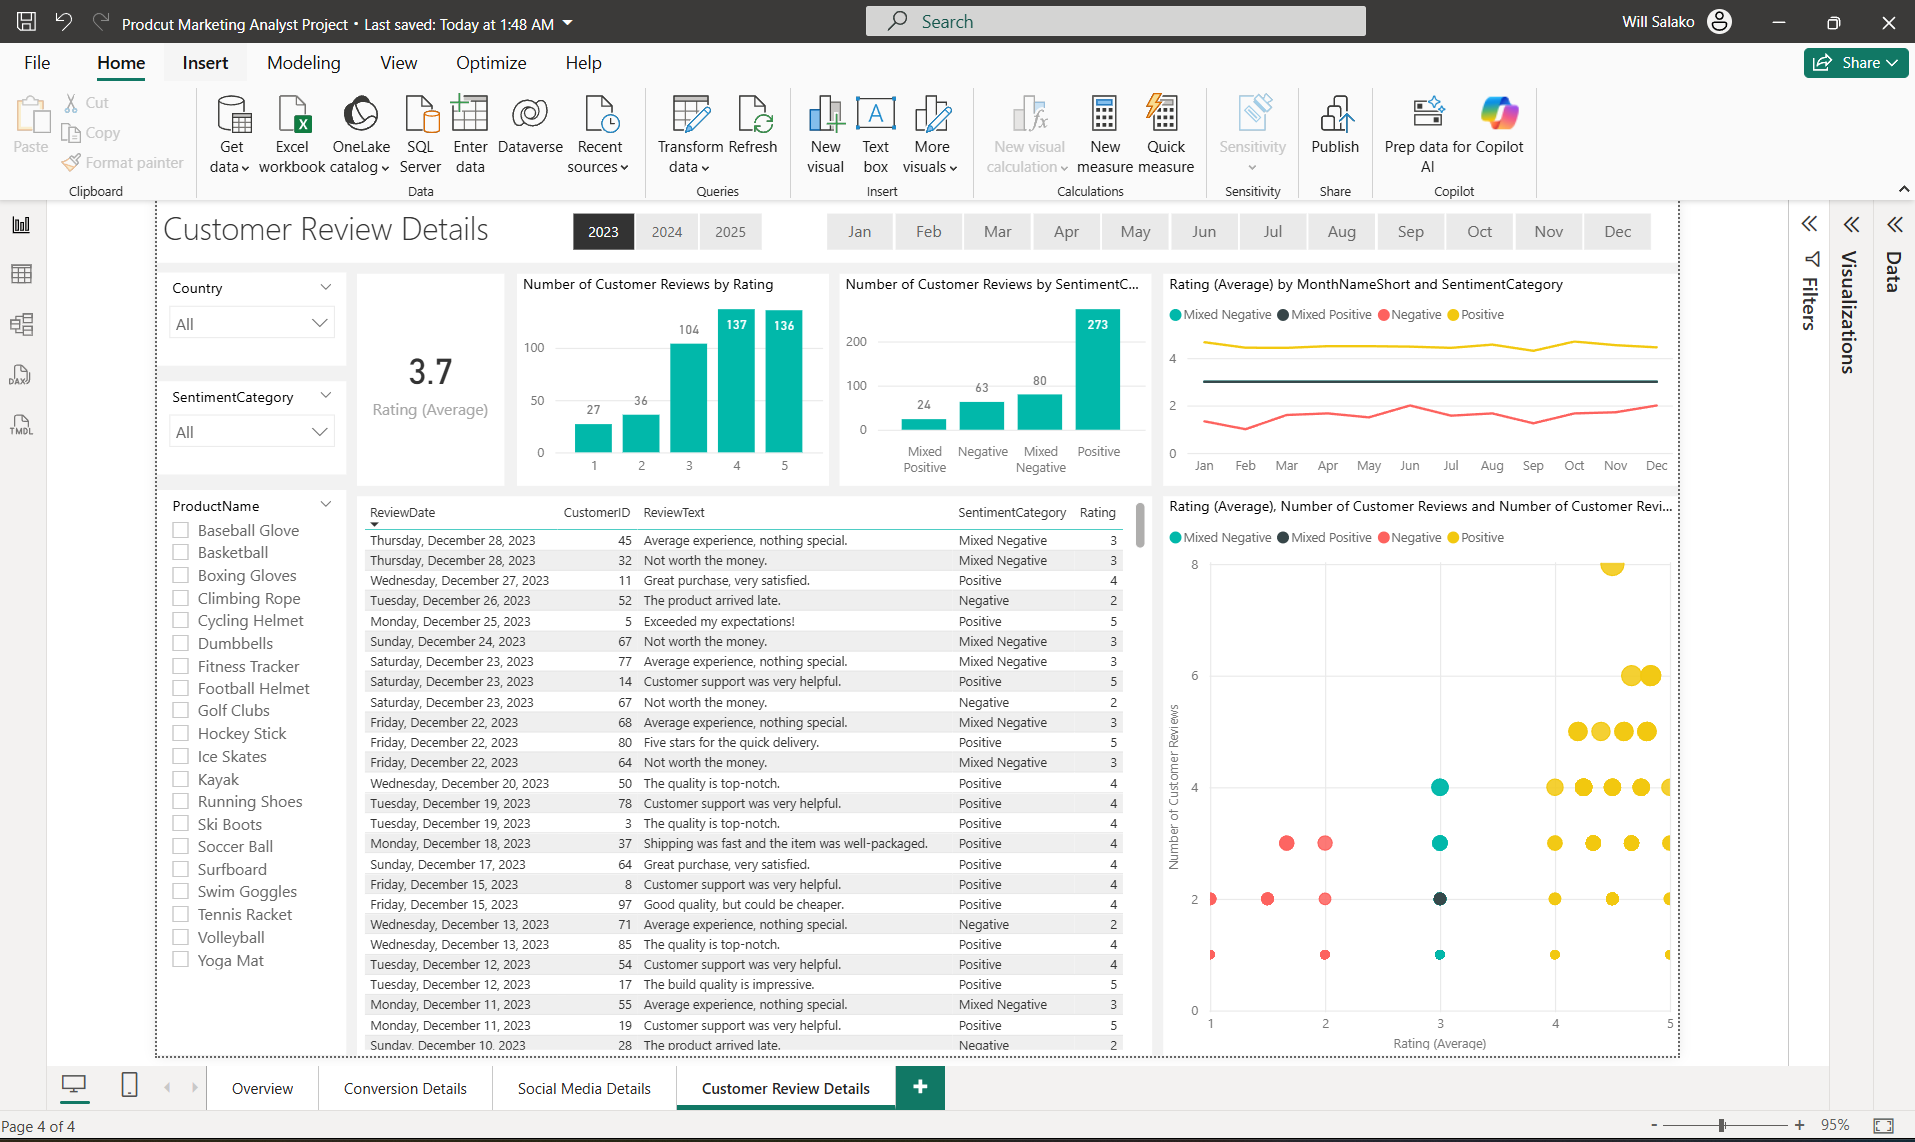

What the dashboard file says about the page in this screenshot:
{"tool":"powerbi","page":{"name":"Customer Review Details","canvas":[1280,720],"ordinal":3},"visuals":[{"type":"textbox","box":[0,0,1280,52.6],"z":0},{"type":"slicer","fields":{"Values":["dim_products.ProductName"]},"box":[0,244.2,159.3,475.3],"z":1000},{"type":"card","fields":{"Values":["_Calculations.Rating (Average)"]},"box":[168.5,61.9,123.8,178.5],"z":2000},{"type":"slicer","fields":{"Values":["Calendar.MonthNameShort"]},"box":[536.8,4.1,743.2,44.4],"z":3000},{"type":"lineChart","fields":{"Category":["Calendar.MonthNameShort"],"Y":["_Calculations.Rating (Average)"],"Series":["fact_customer_reviews_with_sentiment.SentimentCategory"]},"box":[846.2,62,434.1,178.4],"z":4000},{"type":"slicer","fields":{"Values":["Calendar.Year"]},"box":[324.1,4.1,208.5,44.4],"z":5000},{"type":"tableEx","fields":{"Values":["fact_customer_reviews_with_sentiment.ReviewDate","fact_customer_reviews_with_sentiment.CustomerID","fact_customer_reviews_with_sentiment.ReviewText","fact_customer_reviews_with_sentiment.SentimentCategory","fact_customer_reviews_with_sentiment.Rating"]},"box":[168.5,249.5,668.4,470.8],"z":6000},{"type":"columnChart","fields":{"Category":["fact_customer_reviews_with_sentiment.Rating"],"Y":["_Calculations.Number of Customer Reviews"]},"box":[302.4,62,262.4,178.4],"z":7000},{"type":"columnChart","fields":{"Category":["fact_customer_reviews_with_sentiment.SentimentCategory"],"Y":["_Calculations.Number of Customer Reviews"]},"box":[574.3,62,262.4,178.4],"z":8000},{"type":"slicer","fields":{"Values":["dim_customers.Country"]},"box":[0,61.4,159.3,78.3],"z":9000},{"type":"slicer","fields":{"Values":["fact_customer_reviews_with_sentiment.SentimentCategory"]},"box":[0,152.8,159.3,78.3],"z":10000},{"type":"scatterChart","fields":{"Category":["dim_customers.CustomerID"],"Series":["fact_customer_reviews_with_sentiment.SentimentCategory"],"X":["_Calculations.Rating (Average)"],"Y":["_Calculations.Number of Customer Reviews"],"Size":["_Calculations.Number of Customer Reviews"]},"box":[846,249.5,434.4,470.8],"z":11000}]}

Visuals, with their boxes on the page's 1280x720 design canvas (x1, y1, x2, y2). These are canvas units, not pixel positions in the 1915x1142 screenshot, which may show the page scaled, cropped or inside an application window:
textbox: box=[0, 0, 1280, 53]
slicer - dim_products.ProductName: box=[0, 244, 159, 720]
card - _Calculations.Rating (Average): box=[168, 62, 292, 240]
slicer - Calendar.MonthNameShort: box=[537, 4, 1280, 48]
lineChart - Calendar.MonthNameShort x _Calculations.Rating (Average): box=[846, 62, 1280, 240]
slicer - Calendar.Year: box=[324, 4, 533, 48]
tableEx - fact_customer_reviews_with_sentiment.ReviewDate x fact_customer_reviews_with_sentiment.CustomerID: box=[168, 250, 837, 720]
columnChart - fact_customer_reviews_with_sentiment.Rating x _Calculations.Number of Customer Reviews: box=[302, 62, 565, 240]
columnChart - fact_customer_reviews_with_sentiment.SentimentCategory x _Calculations.Number of Customer Reviews: box=[574, 62, 837, 240]
slicer - dim_customers.Country: box=[0, 61, 159, 140]
slicer - fact_customer_reviews_with_sentiment.SentimentCategory: box=[0, 153, 159, 231]
scatterChart - dim_customers.CustomerID x fact_customer_reviews_with_sentiment.SentimentCategory: box=[846, 250, 1280, 720]
